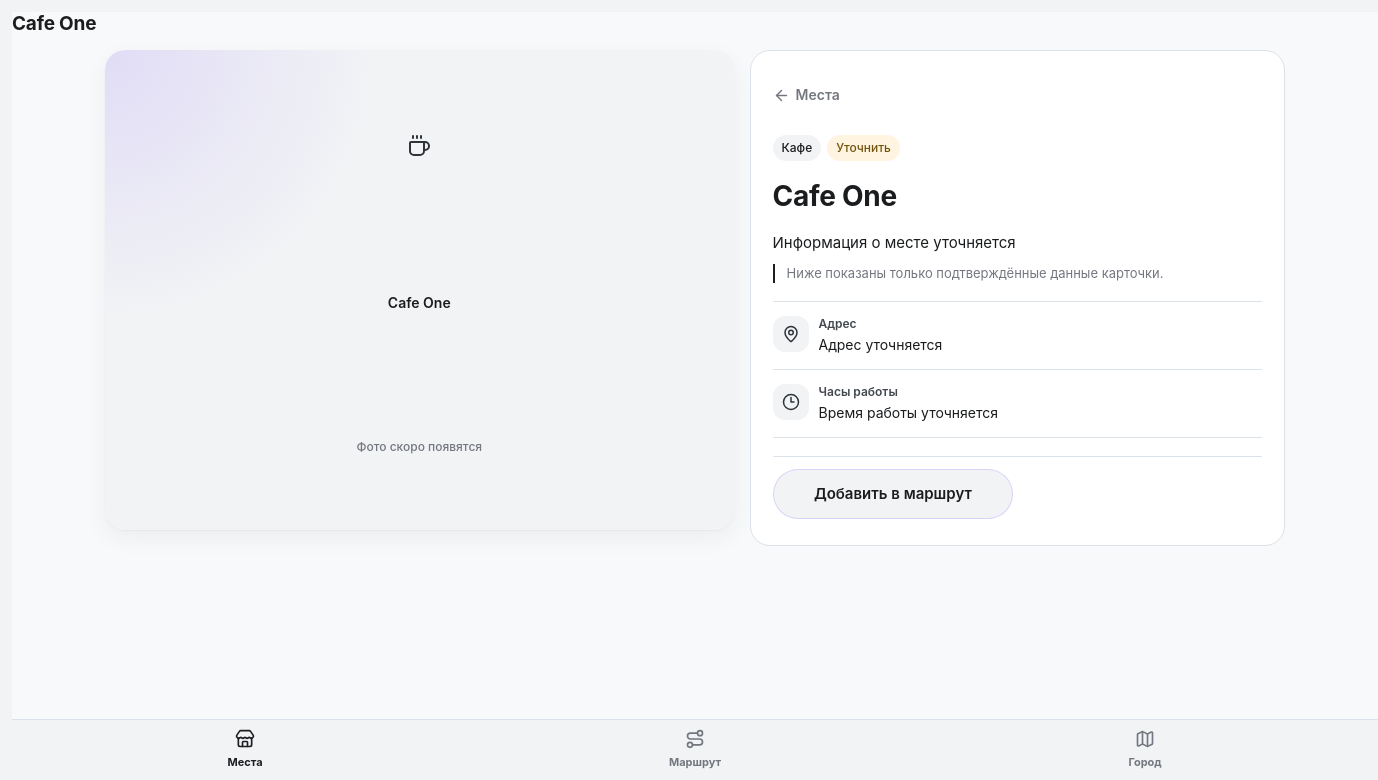
Test case: TmaPlaceDetailPage › shows the truthful start-unavailable message instead of a generic failure_new
Click the button "Добавить в маршрут": (893, 494) left=772, top=469, right=1013, bottom=519
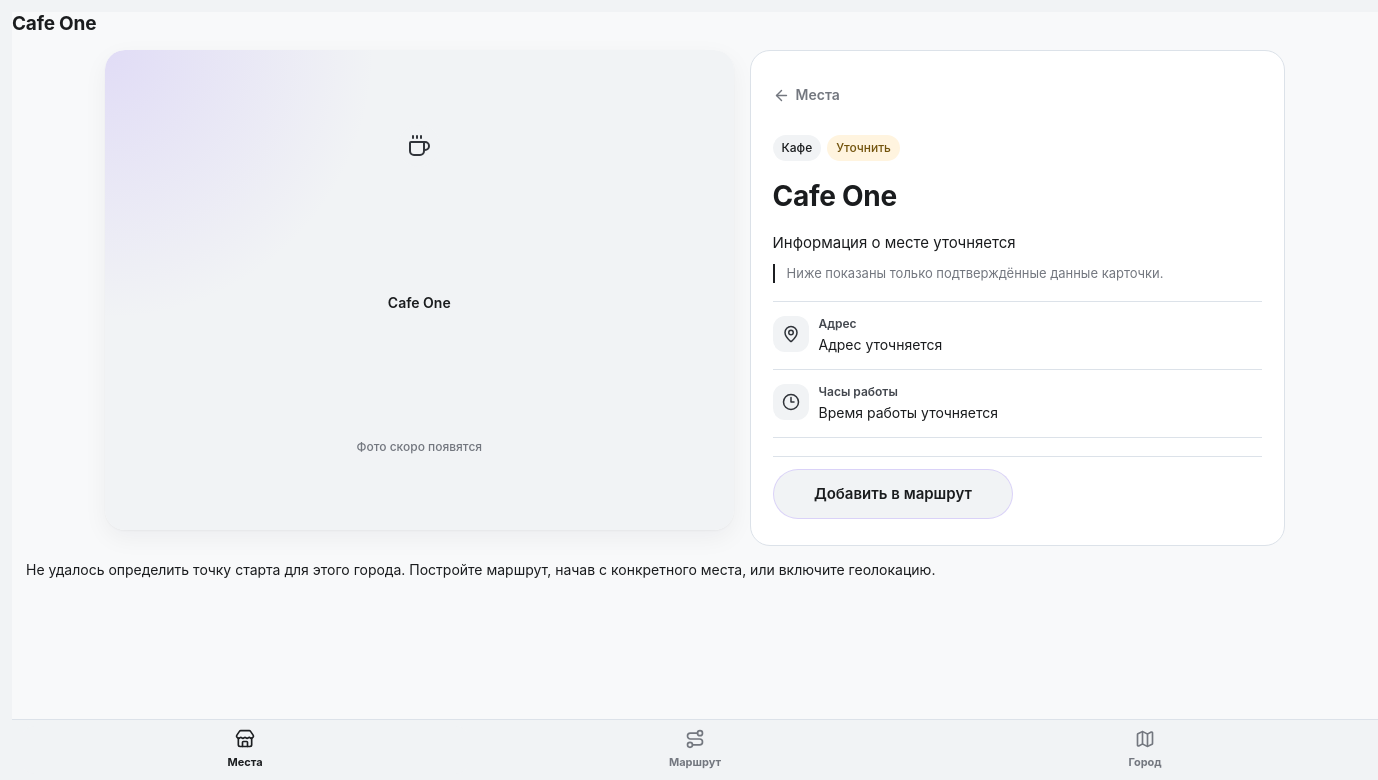
Result: the message shows "Не удалось определить точку старта" at left=26, top=561, right=935, bottom=578
